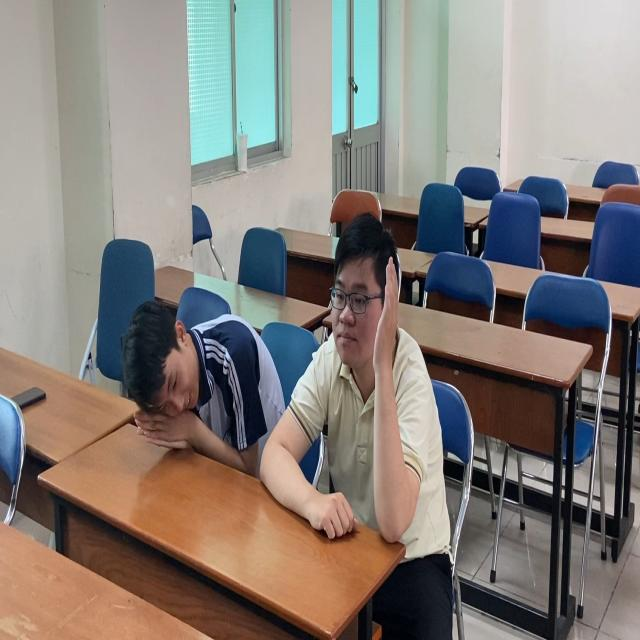raise_hand: (319, 206, 442, 549)
sleep: (119, 290, 285, 489)
